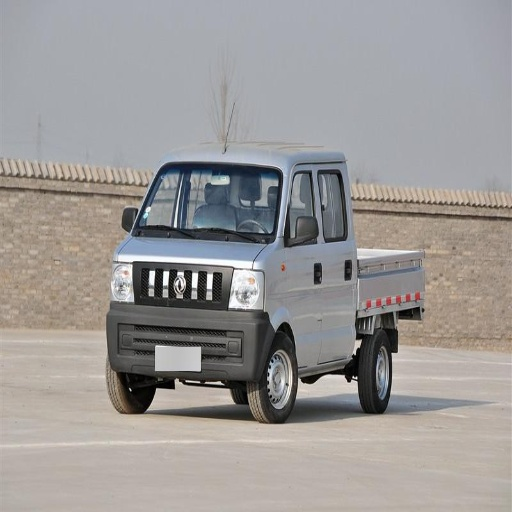front_bumper: (110, 261, 270, 383)
front_glass: (133, 164, 280, 240)
front_left_door: (283, 168, 331, 365)
trunk: (327, 252, 406, 353)
